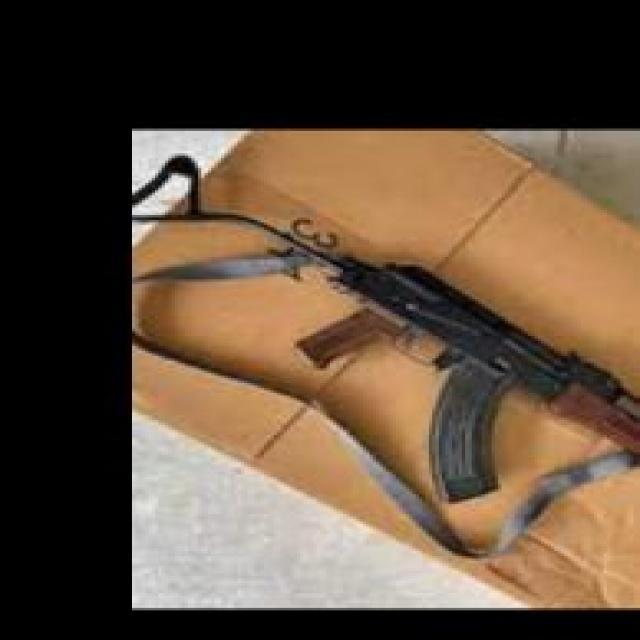weapon: (131, 154, 640, 455)
